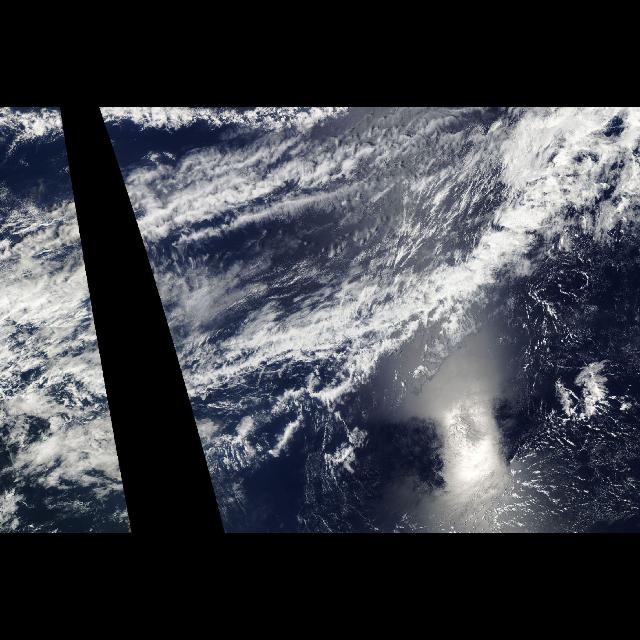Fish: (124, 187, 634, 439), (15, 187, 107, 389)
Gravel: (506, 294, 638, 528)
Sugar: (416, 418, 636, 532)
